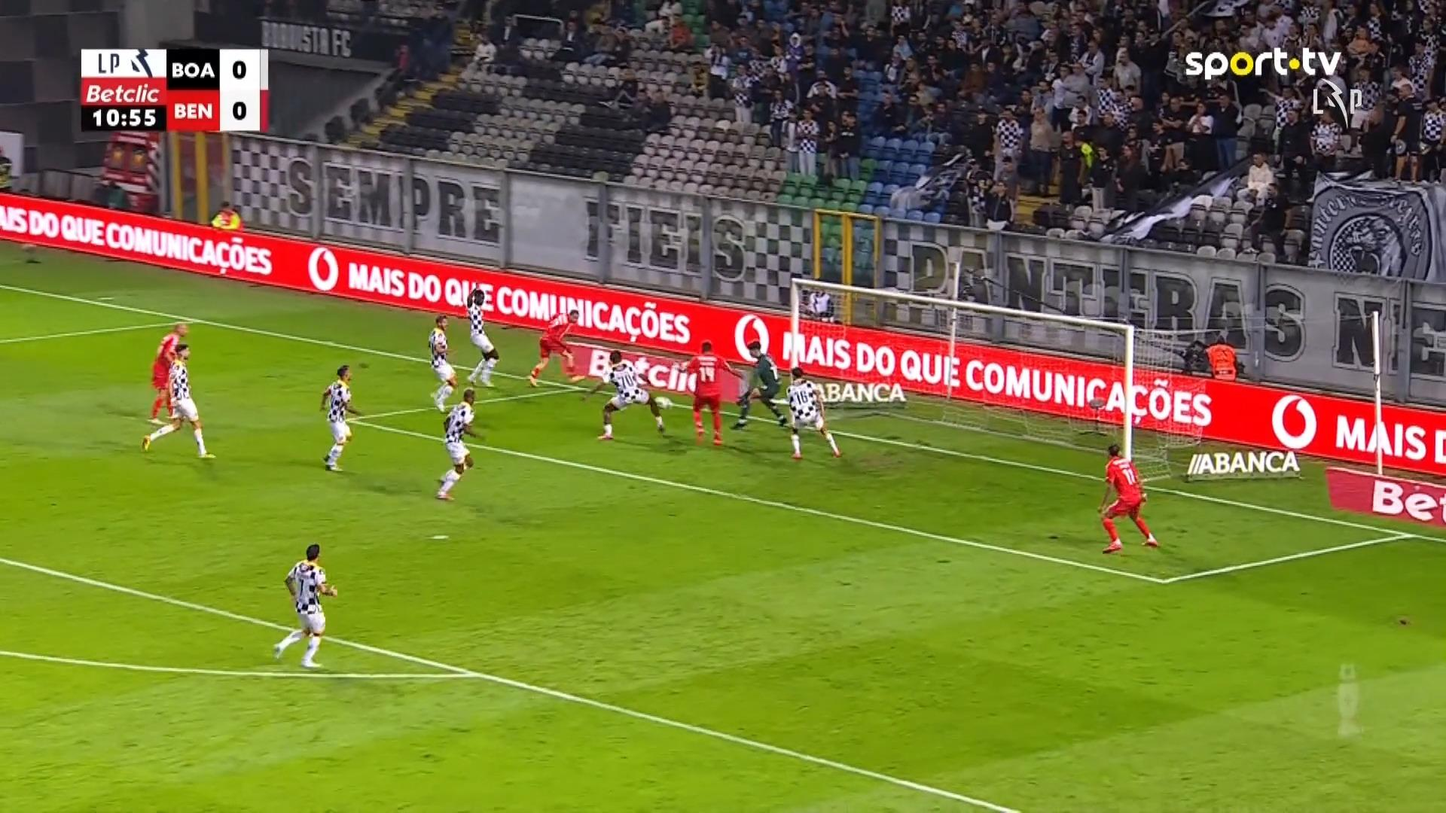ball: (655, 396, 673, 409), (1088, 397, 1103, 409)
goalkeeper: (731, 338, 789, 429)
player: (140, 342, 216, 459), (581, 349, 673, 440), (272, 543, 337, 668), (675, 339, 745, 446), (1097, 442, 1159, 553), (784, 365, 841, 460), (434, 388, 479, 501), (526, 307, 587, 388), (145, 321, 189, 425), (319, 364, 361, 471), (464, 286, 499, 388), (426, 314, 458, 413)
